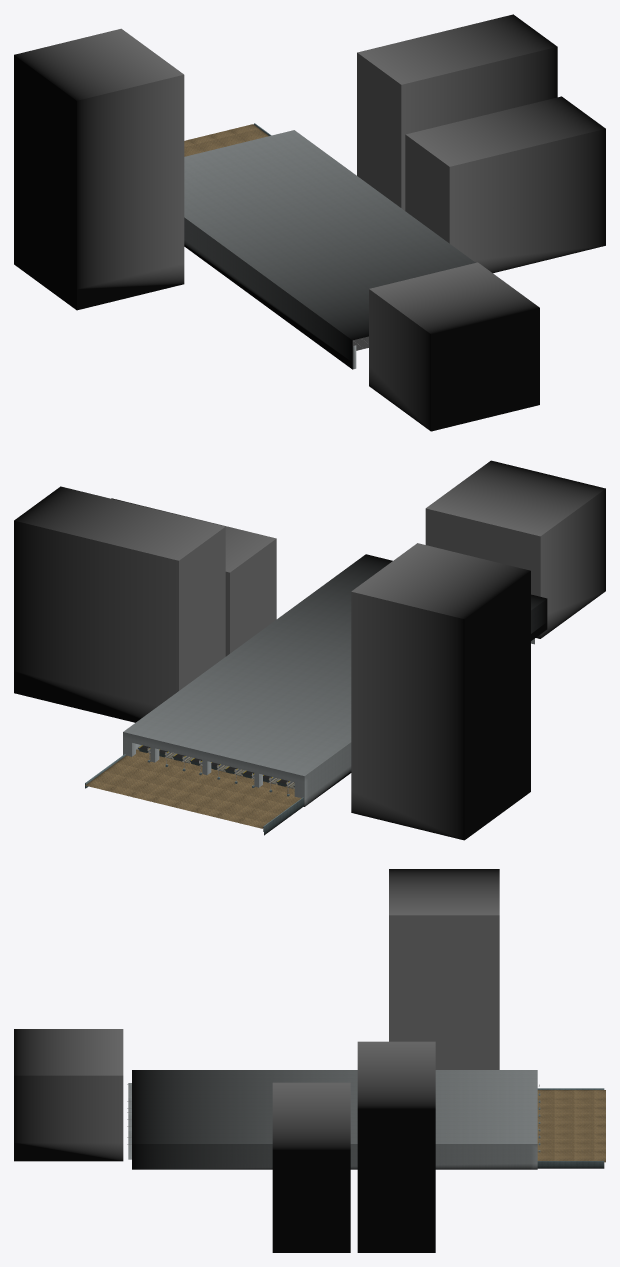
Rendered from UMEDA_ST.glb.
The picture shows the model from 3 angles, top to bottom: view 1: azimuth 30°, elevation 25°; view 2: azimuth 150°, elevation 25°; view 3: azimuth 270°, elevation 25°; orthographic projection. The views are drawn at different scales.
Parts seen in each view (by area): view 1: home; view 2: home; view 3: home.
Boxes of the visible parts, x1,y1,x2,y2 form: home: [14, 14, 605, 431]; home: [14, 460, 605, 840]; home: [14, 869, 605, 1252].
Bounding box in the file's own units: 593 × 256 × 744.
Materials: 22 (21 with a texture image).
